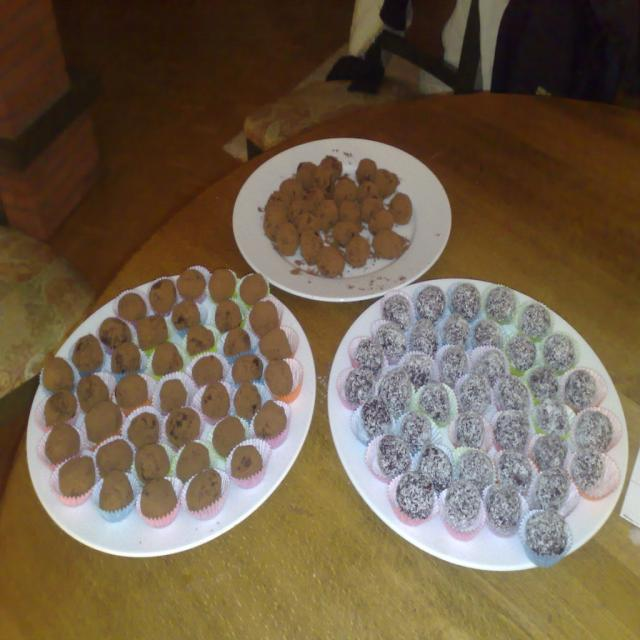non-organic waste: (313, 269, 640, 585), (14, 253, 322, 575), (212, 127, 467, 311)
